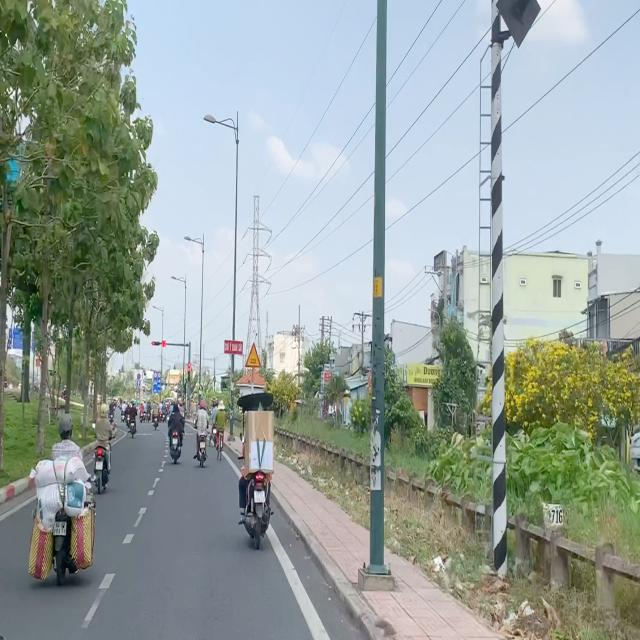Nguy hiem: (245, 342, 262, 369)
